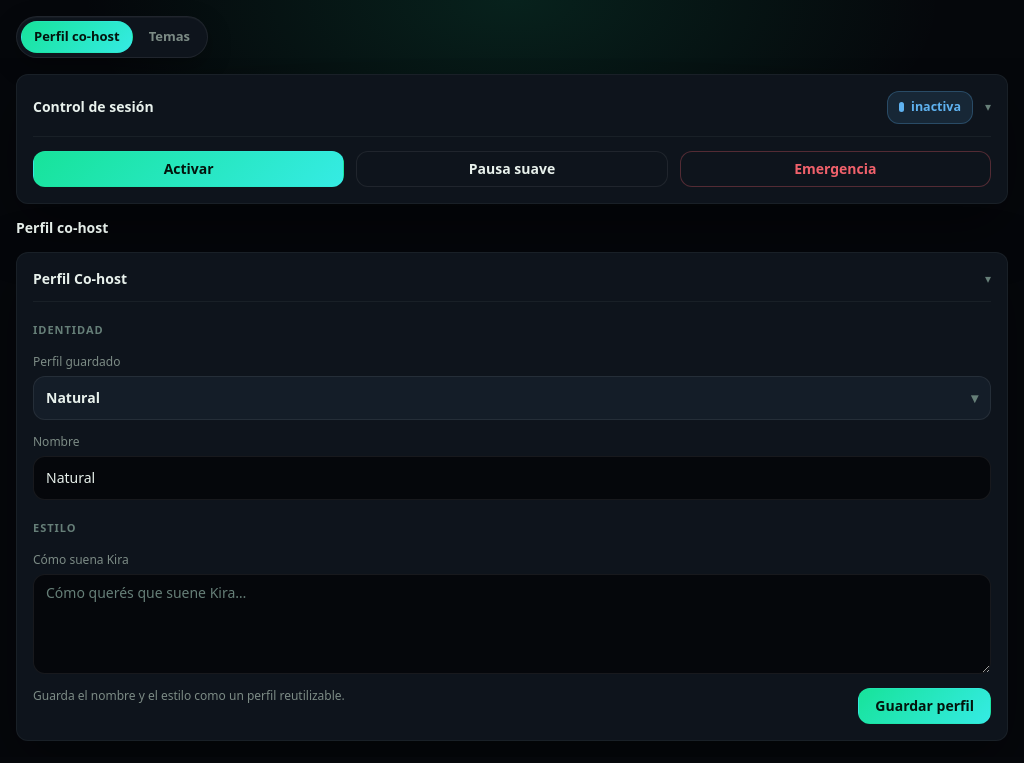
Test: AgendaPanel hydrates Now/Queue from GET /api/agenda › shows the active topic from GET, highlighted as live
This screenshot has width=1024, height=763.
What coordinates should you click on to do the following:
click the button "Temas"
I would click on:
 (169, 37)
Its box is x1=136 y1=21 x2=203 y2=53.
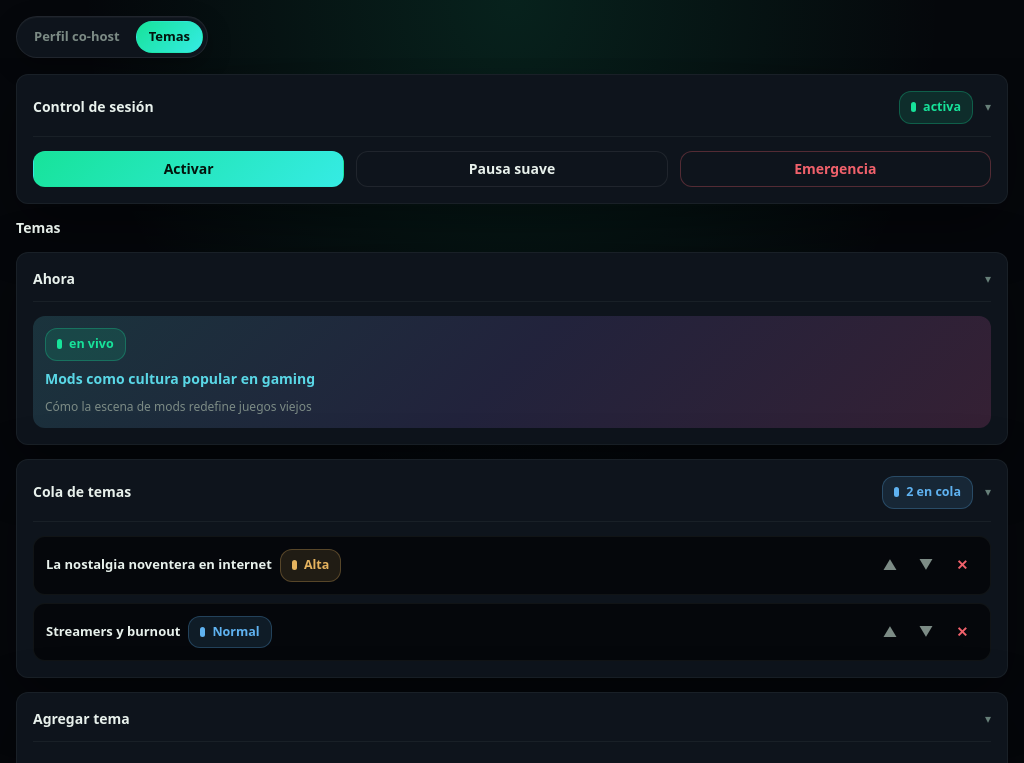
Expected: the text "Mods como cultura popular en gaming" is shown, x1=45 y1=368 x2=315 y2=388
Expected: the text "en vivo" is shown, x1=45 y1=328 x2=126 y2=361
